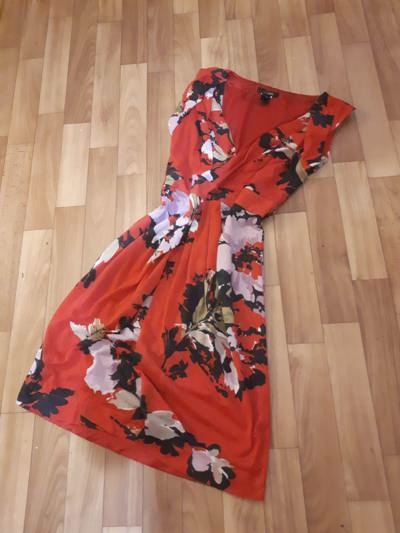Dress: (12, 50, 375, 500)
